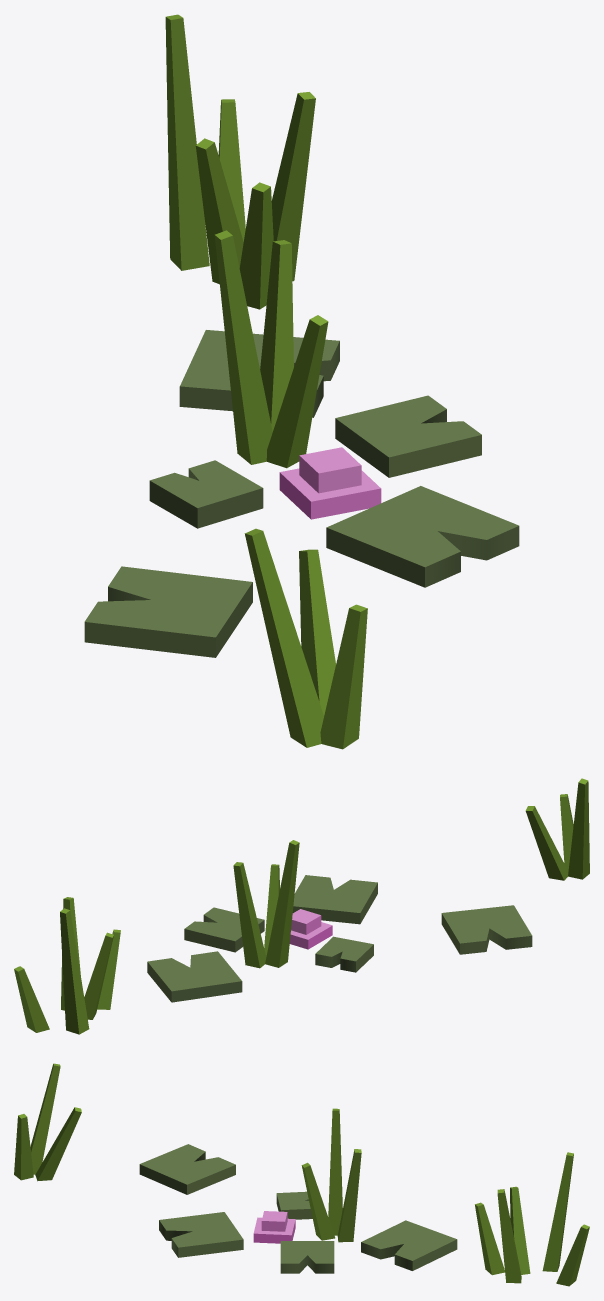
File: SF_Env_RiverPlants_05.FBX
3 renders of one model, top to bottom at view 1: azimuth 30°, elevation 25°; view 2: azimuth 150°, elevation 25°; view 3: azimuth 270°, elevation 25°, orthographic. The views are drawn at different scales.
Visible parts, largest first — view 1: SF_Env_RiverPlants_05, SF_Env_RiverPlants_05_Elements14, SF_Env_RiverPlants_05_Elements4, SF_Env_RiverPlants_05_Elements6, SF_Env_RiverPlants_05_Elements15, SF_Env_RiverPlants_05_Elements7, SF_Env_RiverPlants_05_Elements3, SF_Env_RiverPlants_05_Elements8, SF_Env_RiverPlants_05_Elements1, SF_Env_RiverPlants_05_Elements9; view 2: SF_Env_RiverPlants_05, SF_Env_RiverPlants_05_Elements4, SF_Env_RiverPlants_05_Elements7, SF_Env_RiverPlants_05_Elements12, SF_Env_RiverPlants_05_Elements10, SF_Env_RiverPlants_05_Elements15, SF_Env_RiverPlants_05_Elements8, SF_Env_RiverPlants_05_Elements11; view 3: SF_Env_RiverPlants_05, SF_Env_RiverPlants_05_Elements4, SF_Env_RiverPlants_05_Elements1, SF_Env_RiverPlants_05_Elements15, SF_Env_RiverPlants_05_Elements3, SF_Env_RiverPlants_05_Elements7, SF_Env_RiverPlants_05_Elements8, SF_Env_RiverPlants_05_Elements2, SF_Env_RiverPlants_05_Elements10.
Part boxes in pixels (x1=…): SF_Env_RiverPlants_05: x1=84, y1=15, x2=519, y2=749; SF_Env_RiverPlants_05_Elements14: x1=279, y1=447, x2=381, y2=519; SF_Env_RiverPlants_05_Elements4: x1=166, y1=14, x2=206, y2=262; SF_Env_RiverPlants_05_Elements6: x1=337, y1=399, x2=481, y2=476; SF_Env_RiverPlants_05_Elements15: x1=299, y1=550, x2=334, y2=715; SF_Env_RiverPlants_05_Elements7: x1=329, y1=486, x2=510, y2=549; SF_Env_RiverPlants_05_Elements3: x1=272, y1=92, x2=315, y2=274; SF_Env_RiverPlants_05_Elements8: x1=94, y1=582, x2=250, y2=636; SF_Env_RiverPlants_05_Elements1: x1=240, y1=182, x2=273, y2=306; SF_Env_RiverPlants_05_Elements9: x1=153, y1=469, x2=259, y2=507; SF_Env_RiverPlants_05: x1=14, y1=778, x2=589, y2=1033; SF_Env_RiverPlants_05_Elements4: x1=60, y1=908, x2=84, y2=1034; SF_Env_RiverPlants_05_Elements7: x1=294, y1=880, x2=357, y2=912; SF_Env_RiverPlants_05_Elements12: x1=267, y1=843, x2=296, y2=966; SF_Env_RiverPlants_05_Elements10: x1=150, y1=956, x2=237, y2=990; SF_Env_RiverPlants_05_Elements15: x1=526, y1=806, x2=567, y2=879; SF_Env_RiverPlants_05_Elements8: x1=443, y1=906, x2=528, y2=938; SF_Env_RiverPlants_05_Elements11: x1=236, y1=864, x2=259, y2=967; SF_Env_RiverPlants_05: x1=14, y1=1063, x2=589, y2=1286; SF_Env_RiverPlants_05_Elements4: x1=542, y1=1152, x2=573, y2=1271; SF_Env_RiverPlants_05_Elements1: x1=475, y1=1202, x2=504, y2=1275; SF_Env_RiverPlants_05_Elements15: x1=36, y1=1107, x2=81, y2=1181; SF_Env_RiverPlants_05_Elements3: x1=499, y1=1191, x2=521, y2=1283; SF_Env_RiverPlants_05_Elements7: x1=168, y1=1213, x2=242, y2=1245; SF_Env_RiverPlants_05_Elements8: x1=142, y1=1145, x2=216, y2=1182; SF_Env_RiverPlants_05_Elements2: x1=556, y1=1225, x2=587, y2=1285; SF_Env_RiverPlants_05_Elements10: x1=383, y1=1221, x2=452, y2=1255.
Size of the model in its own units: 5.89 by 2.37 by 10.71.
